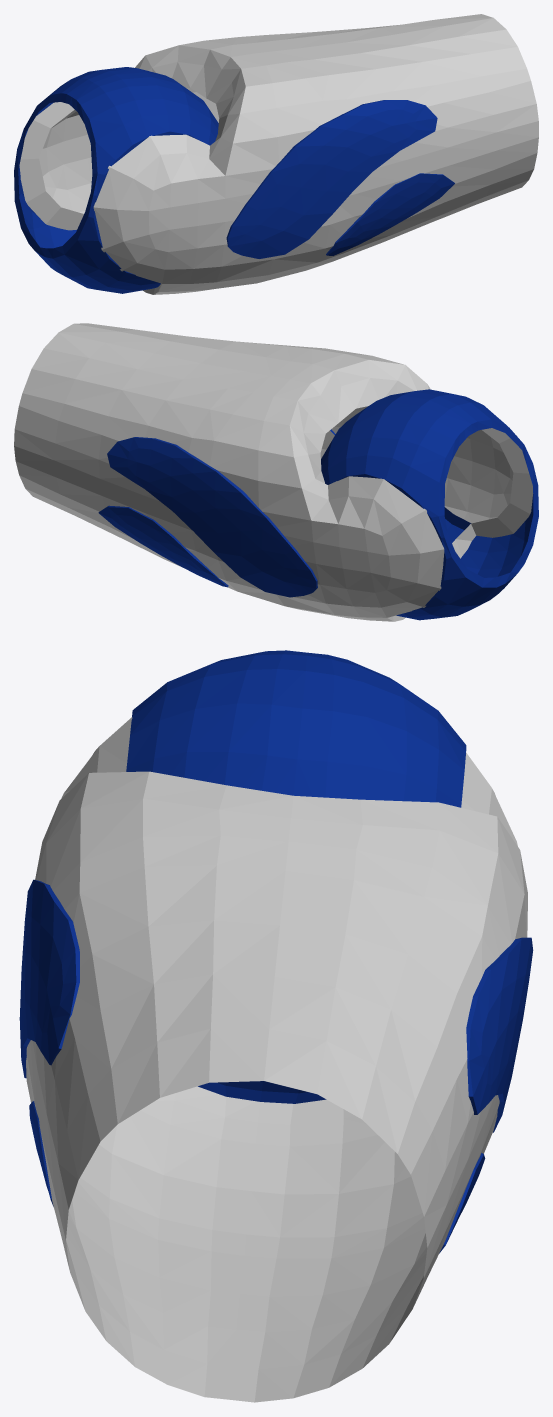
Rendered from RElbowYaw.obj.
3 renders of one model, top to bottom at view 1: azimuth 30°, elevation 25°; view 2: azimuth 150°, elevation 25°; view 3: azimuth 270°, elevation 25°, orthographic. The views are drawn at different scales.
Parts seen in each view (by area): view 1: RElbowYaw; view 2: RElbowYaw; view 3: RElbowYaw.
Boxes of the visible parts, <box> form: RElbowYaw: <box>14,14,538,294</box>; RElbowYaw: <box>14,323,538,621</box>; RElbowYaw: <box>19,650,533,1402</box>.
Size of the model in its own units: 0.2117 by 0.0965 by 0.1038.
